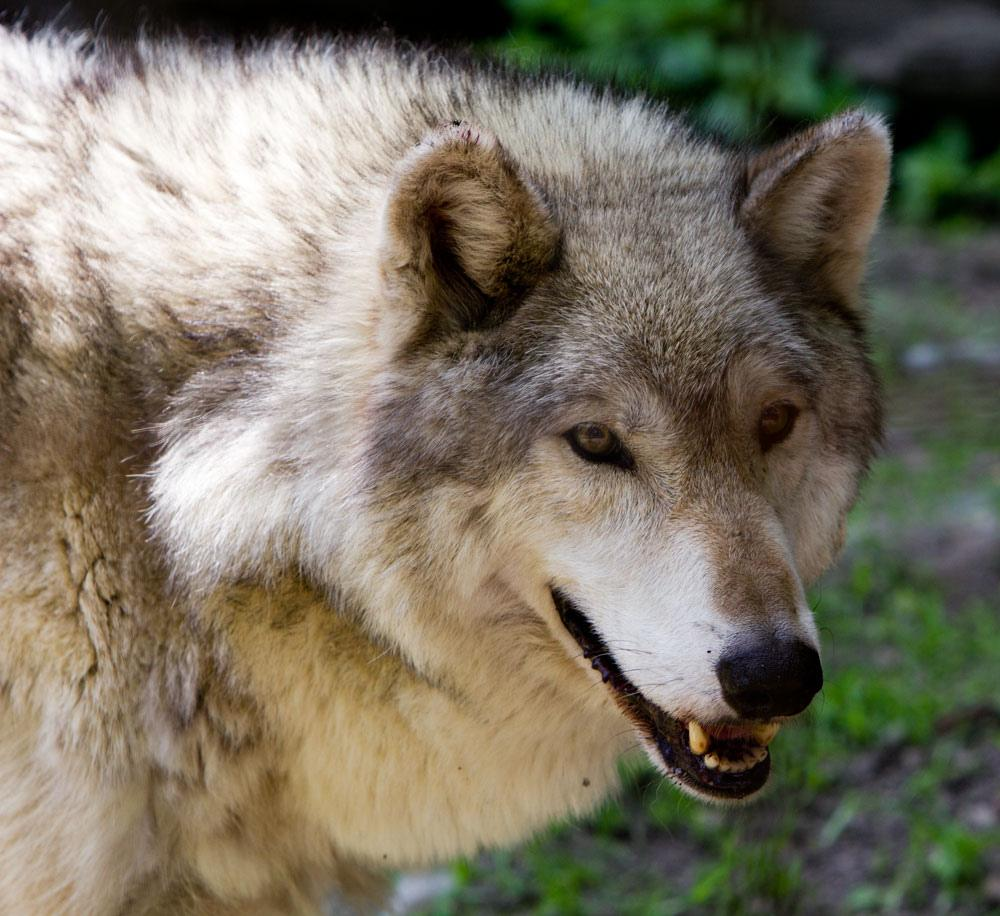Wolf: (0, 24, 893, 916)
